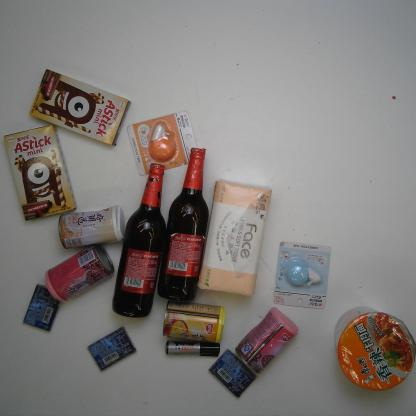Alcohol: (112, 164, 166, 317), (158, 148, 208, 304)
Canned Food: (235, 308, 298, 374), (45, 244, 115, 302), (58, 206, 126, 248), (162, 300, 226, 343)
Dessert: (30, 68, 131, 145), (4, 124, 77, 221)
Gum: (88, 325, 136, 372), (210, 348, 256, 397), (22, 284, 65, 330)
Instant Noodles: (333, 306, 416, 390)
Stationery: (126, 111, 200, 176), (274, 240, 331, 310), (164, 341, 221, 356)
Tissue: (196, 180, 272, 295)
